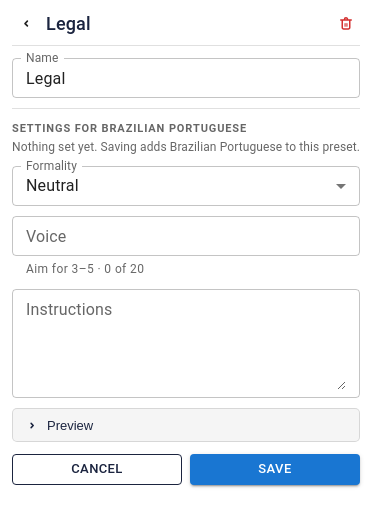
the voice field (contract: label “Voice”, chips and free text, placeholder “e.g. warm, plain, confident — Enter after each” when empty, helper “Aim for 3–5 · <n › says Enter adds it while a word is typed and not committed
Type "conc" into the dropdown labelled "Voice" at (184, 236), box [18,222,351,250]
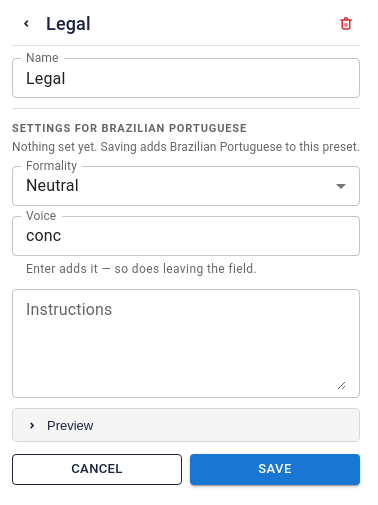
Expected: the text "Enter adds it — so does leaving the field." is shown, [26,262,257,276]
